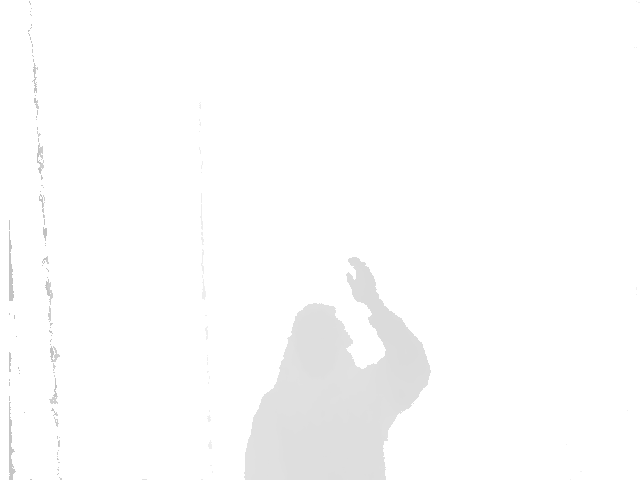hand: (243, 255, 430, 480), (271, 302, 362, 381), (344, 255, 388, 310)
